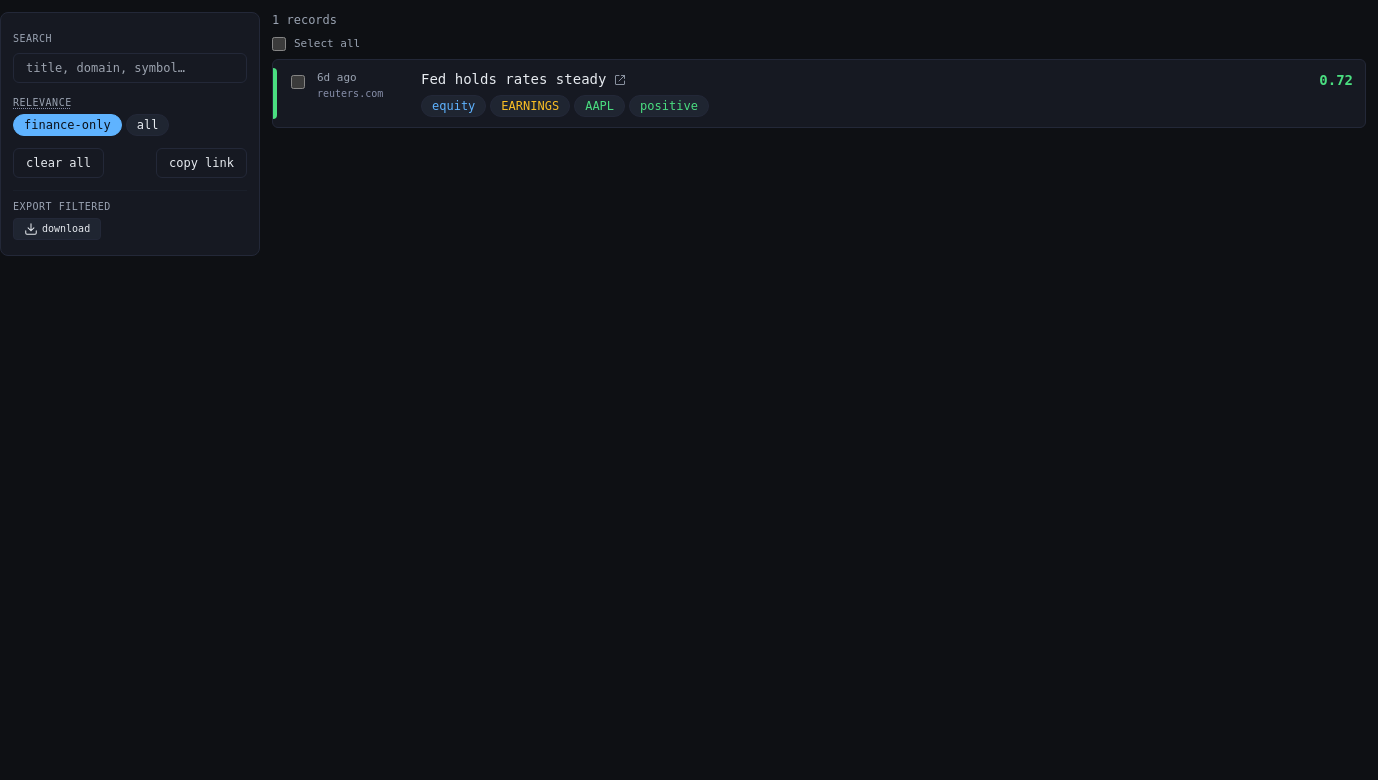
Test case: FeedPage (smoke) › selecting a row reveals the bulk-action toolbar
expect the button "Fed holds rates steady" is shown: met, box [421,70,606,89]
Click the checkbox with test id "feed-row-checkbox-cap-1".
click(298, 82)  # box [291,74,305,88]
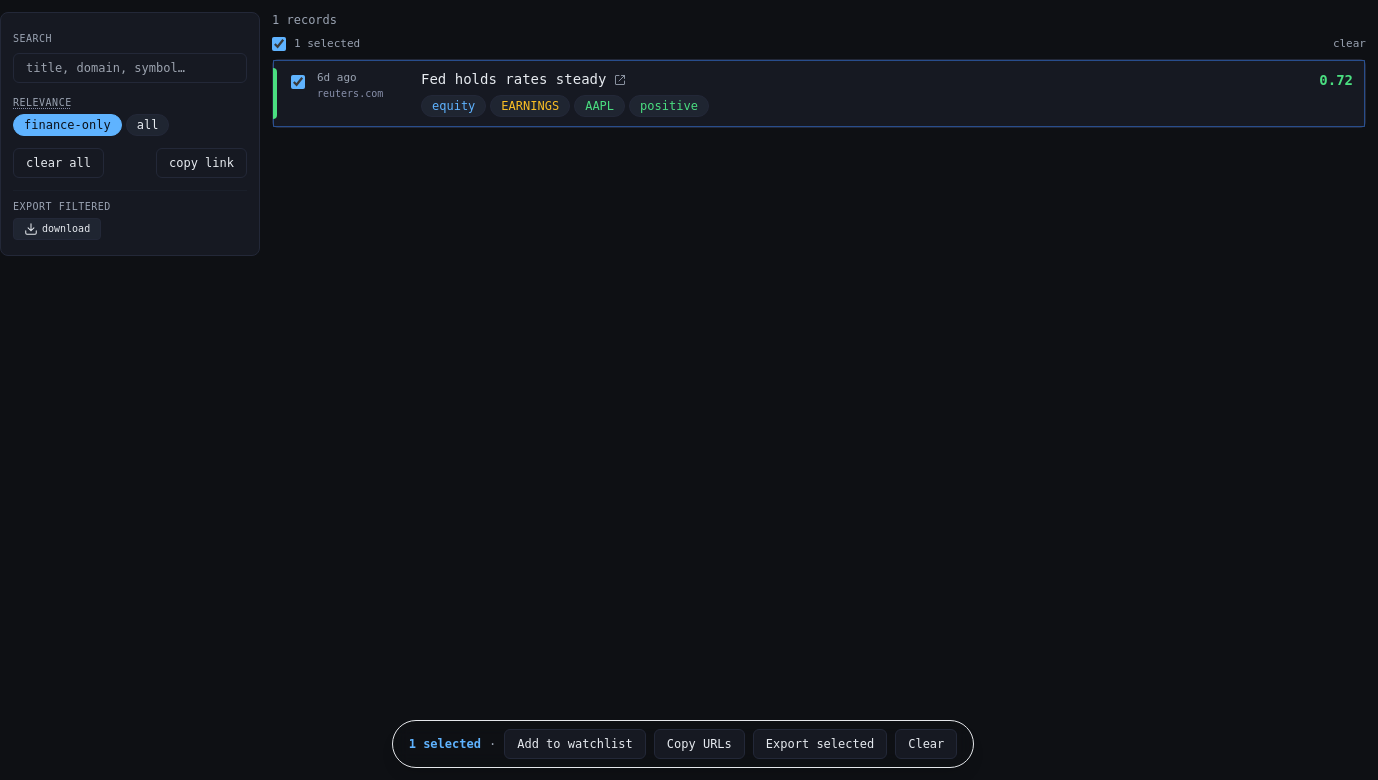
expect the element with test id "feed-bulk-toolbar" is shown: met, box [392,720,974,768]
expect the 2nd text "1 selected" is shown: met, box [409,736,481,752]
